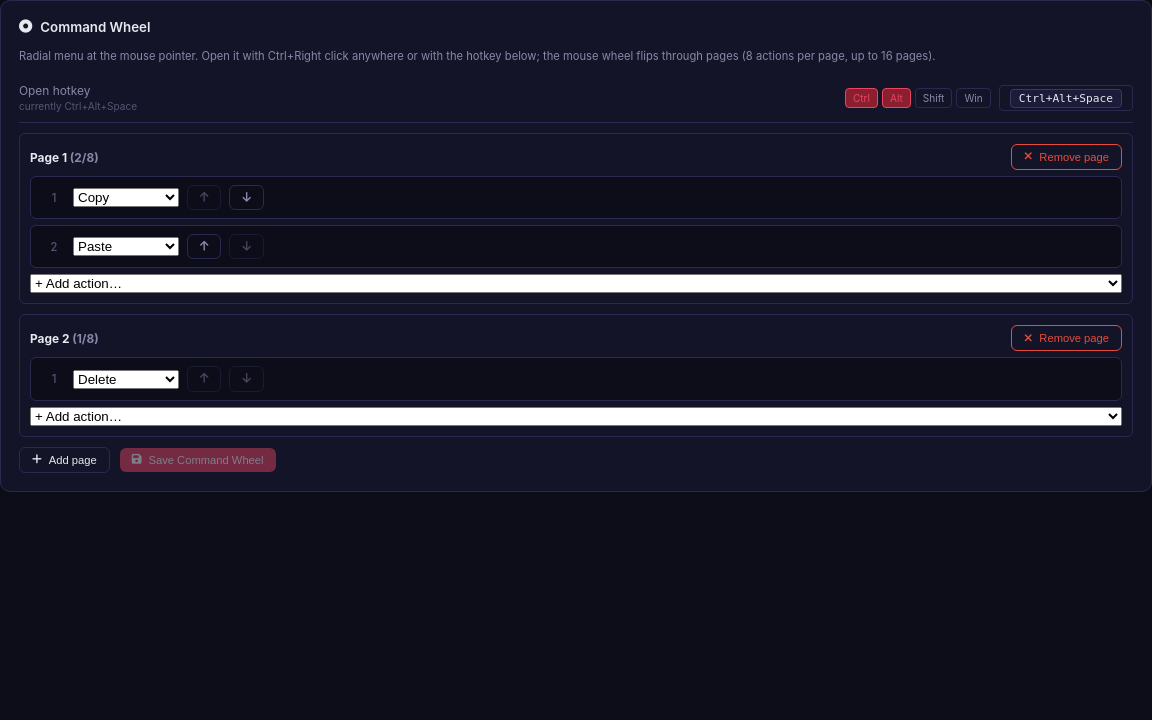
Test: CommandWheelSection › loads pages and saves edited slots and hotkey in the API shape
The width and height of the screenshot is (1152, 720).
Expected: the text "Page 1" is shown, [30,150,99,164]
Expected: the dropdown named "page 1 slot 1" shows "Copy", [73,188,179,207]
Click the button named "move Paste up" at [204, 247], box [187,234,221,259]
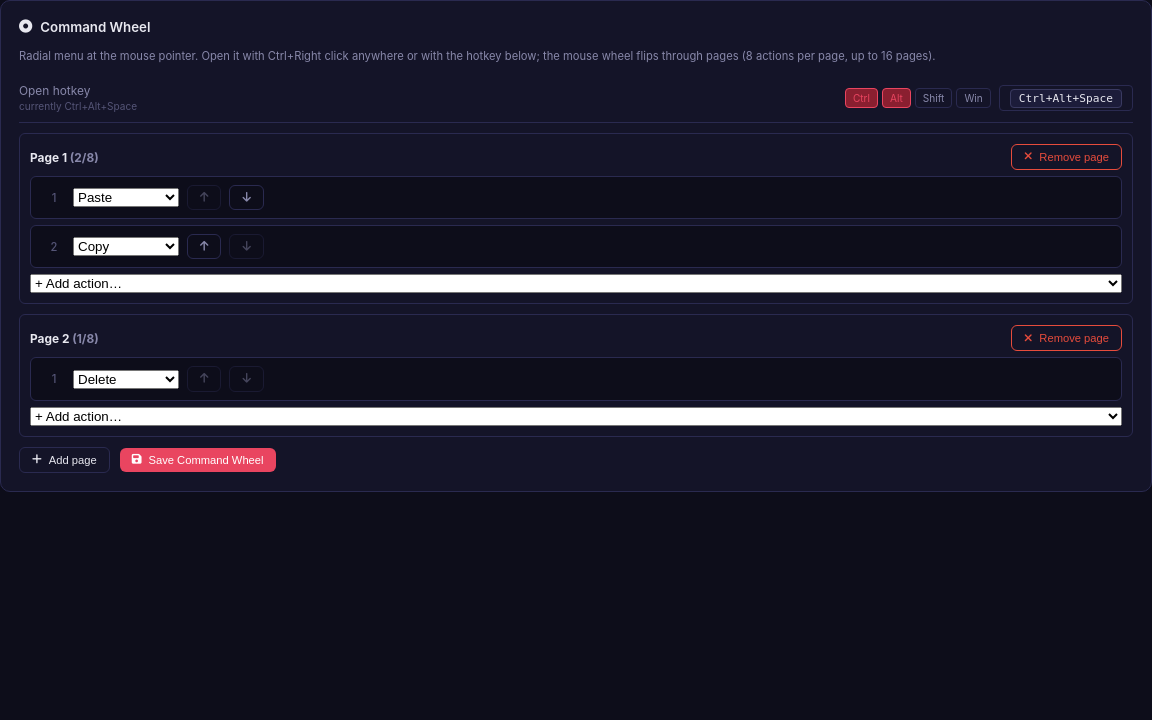
Expected: the dropdown named "page 1 slot 1" shows "Paste", [73,188,179,207]
Click the checkbox named "wheel modifier Alt" at [896, 98], box [882,88,911,108]
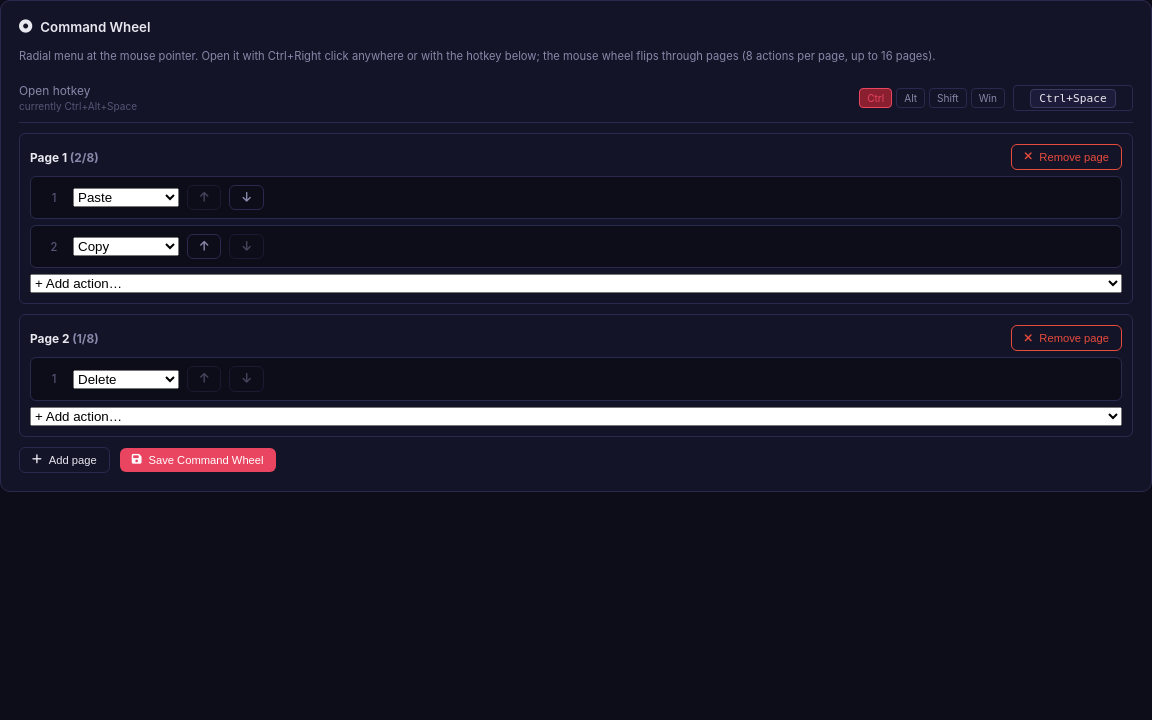
Click the checkbox named "wheel modifier Win" at [988, 98], box [971,88,1005,108]
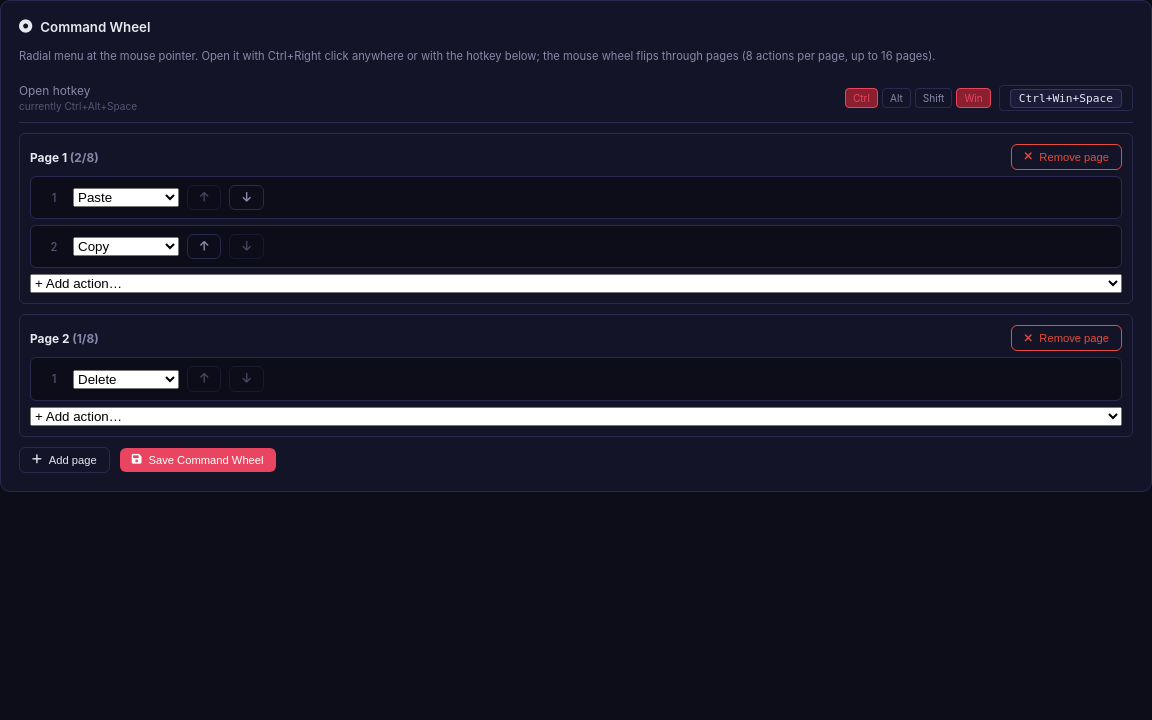
Click the button with aria-label "wheel hotkey key" at [1066, 98], box [999,84,1133,110]
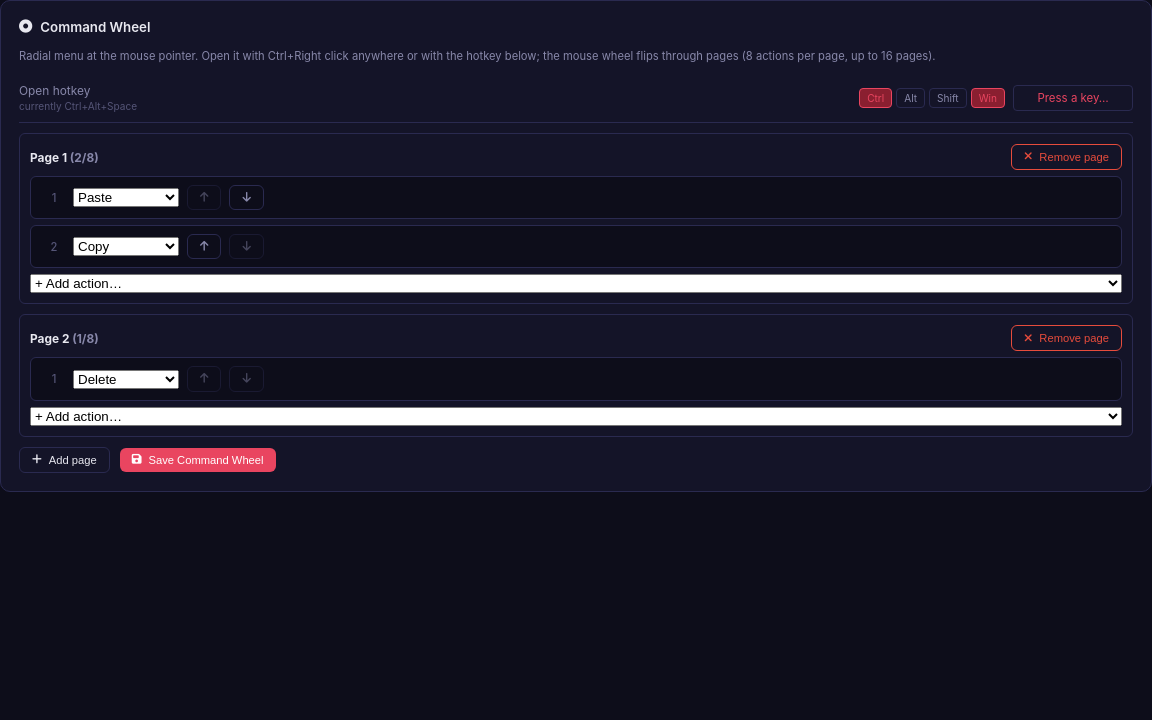
Press k in the button with aria-label "wheel hotkey key", box [1013,84,1133,110]
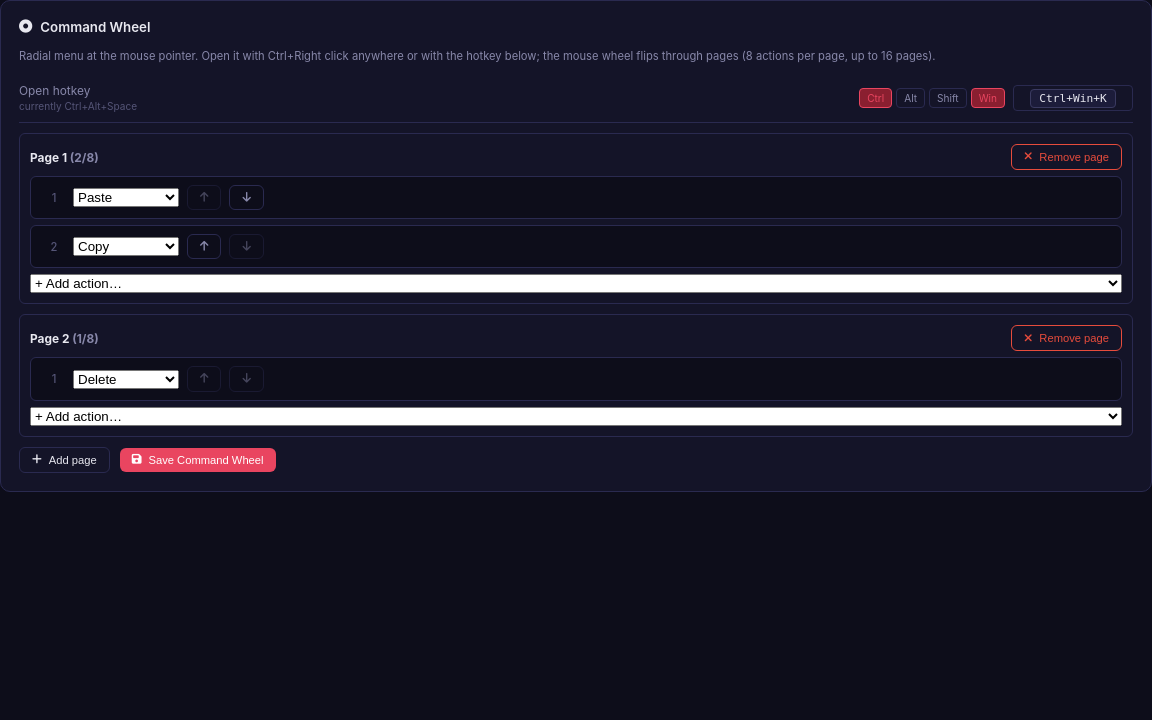
Expected: the button with aria-label "wheel hotkey key" reads "Ctrl+Win+K", [1013,84,1133,110]
Click the button "Save Command Wheel" at [198, 460], box [120,448,276,472]
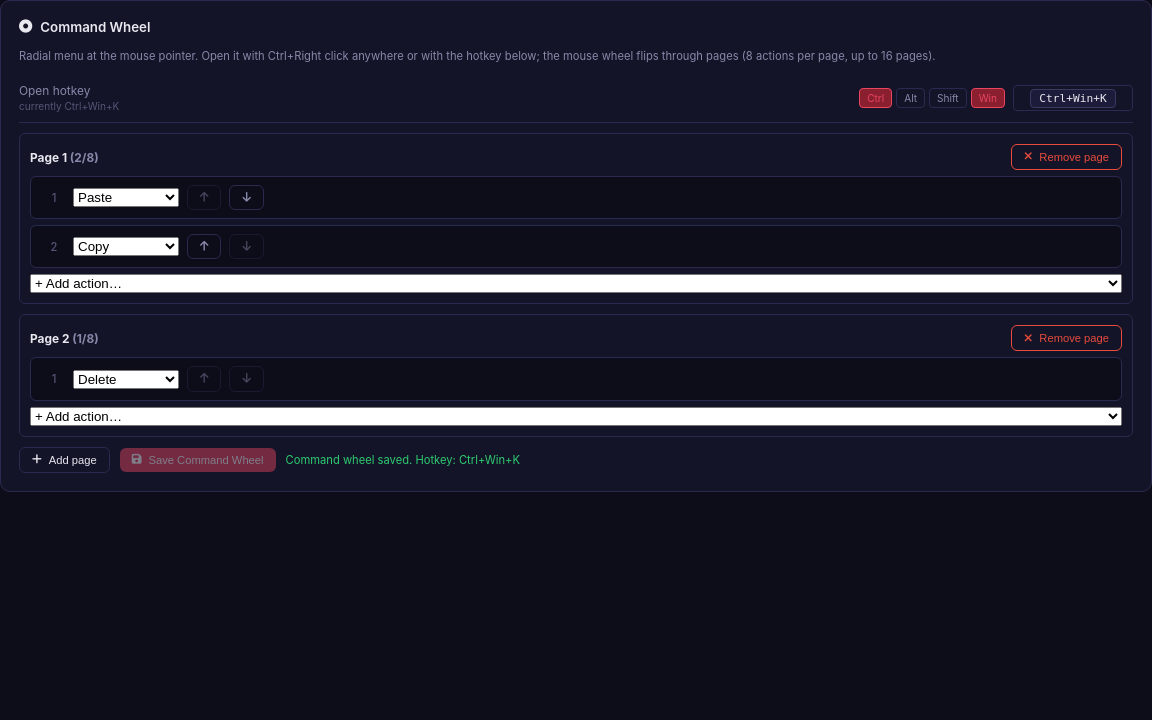
Expected: the message reads "Command wheel saved. Hotkey: Ctrl+Win+K", [286,453,520,467]
Expected: the button "Save Command Wheel" is disabled, [120,448,276,472]
